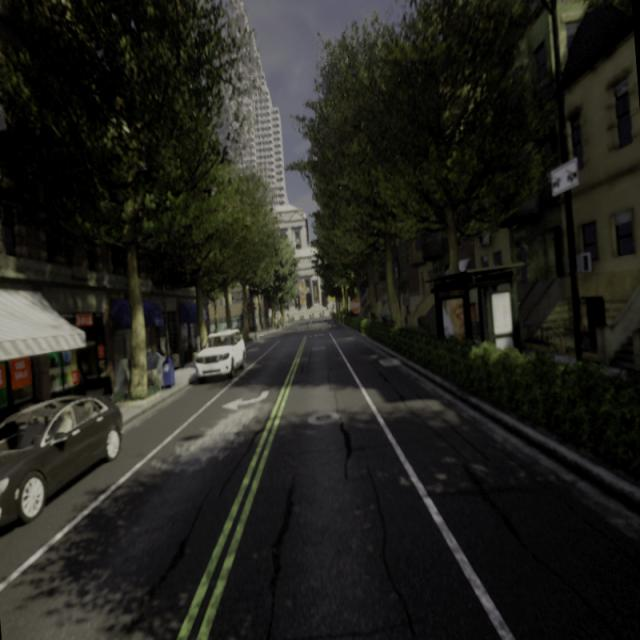stop sign: (346, 292, 367, 318)
